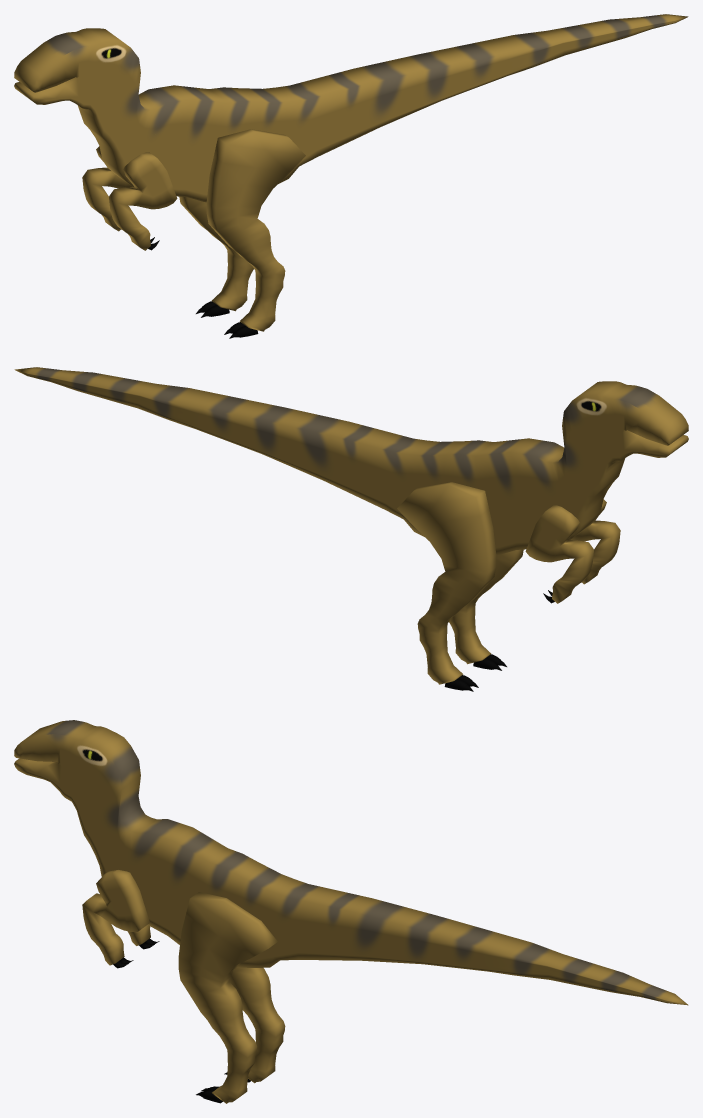
File: M_Sub_Dino2.fbx
The picture shows the model from 3 angles, top to bottom: view 1: azimuth 30°, elevation 25°; view 2: azimuth 150°, elevation 25°; view 3: azimuth 330°, elevation 25°; orthographic projection.
Visible parts, largest first — view 1: Sub_Dino; view 2: Sub_Dino; view 3: Sub_Dino.
Boxes of the visible parts, box(x1,y1,x2,y2) form: Sub_Dino: box(14, 14, 688, 338); Sub_Dino: box(14, 367, 688, 691); Sub_Dino: box(14, 720, 688, 1103).
Size of the model in its own units: 25.38 by 11.69 by 2.48.
